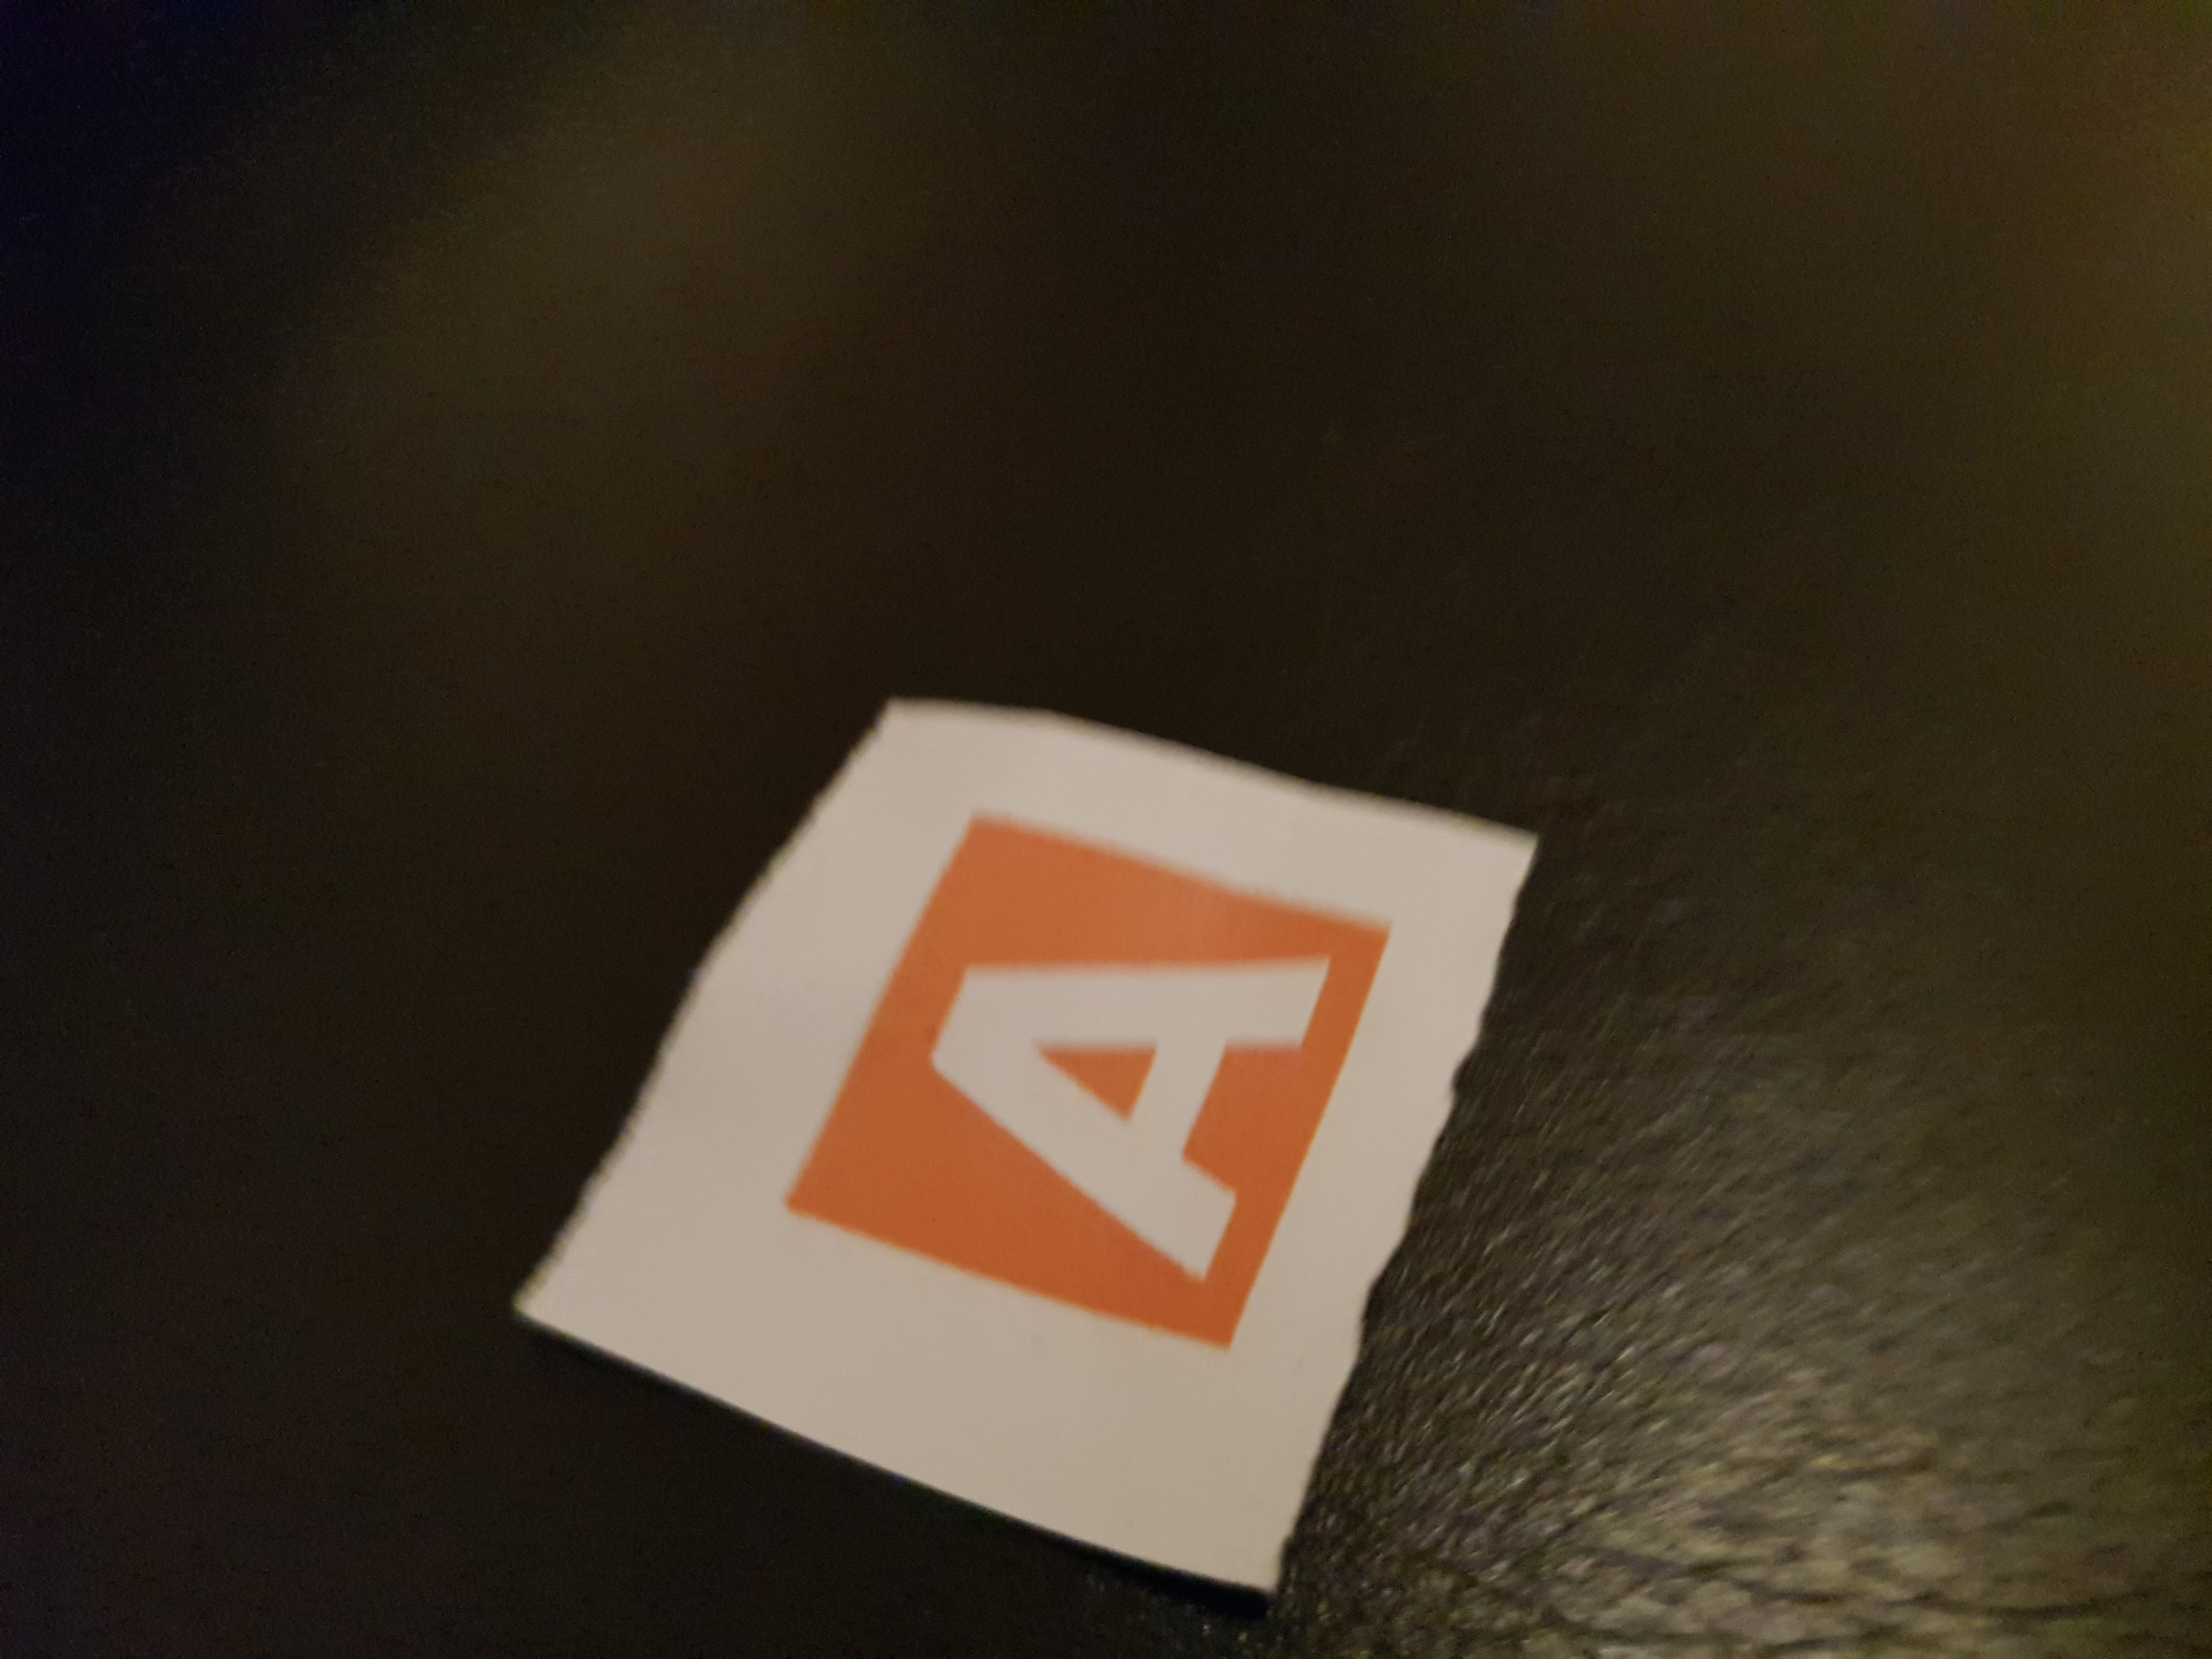marker: (557, 704, 1529, 1593)
